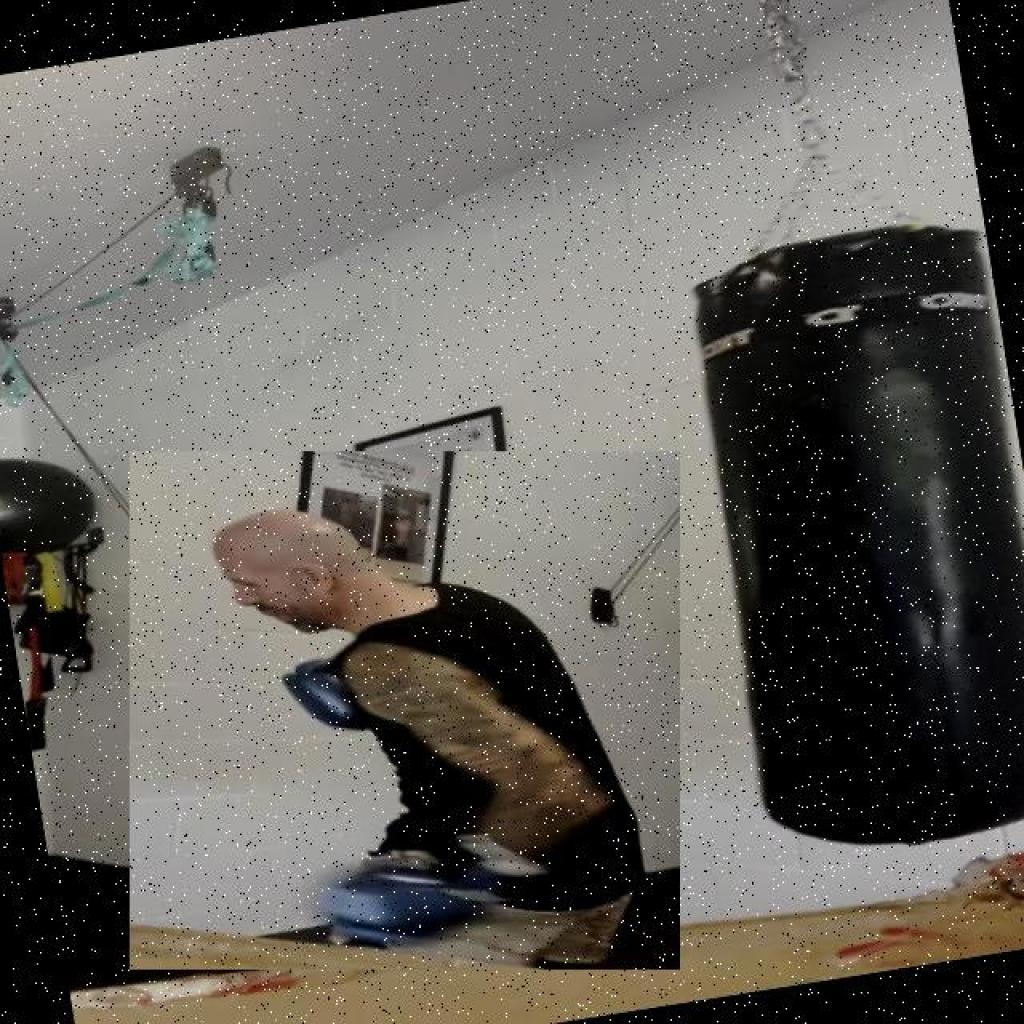bag: (637, 205, 1024, 872)
uppercut: (130, 452, 680, 970)
